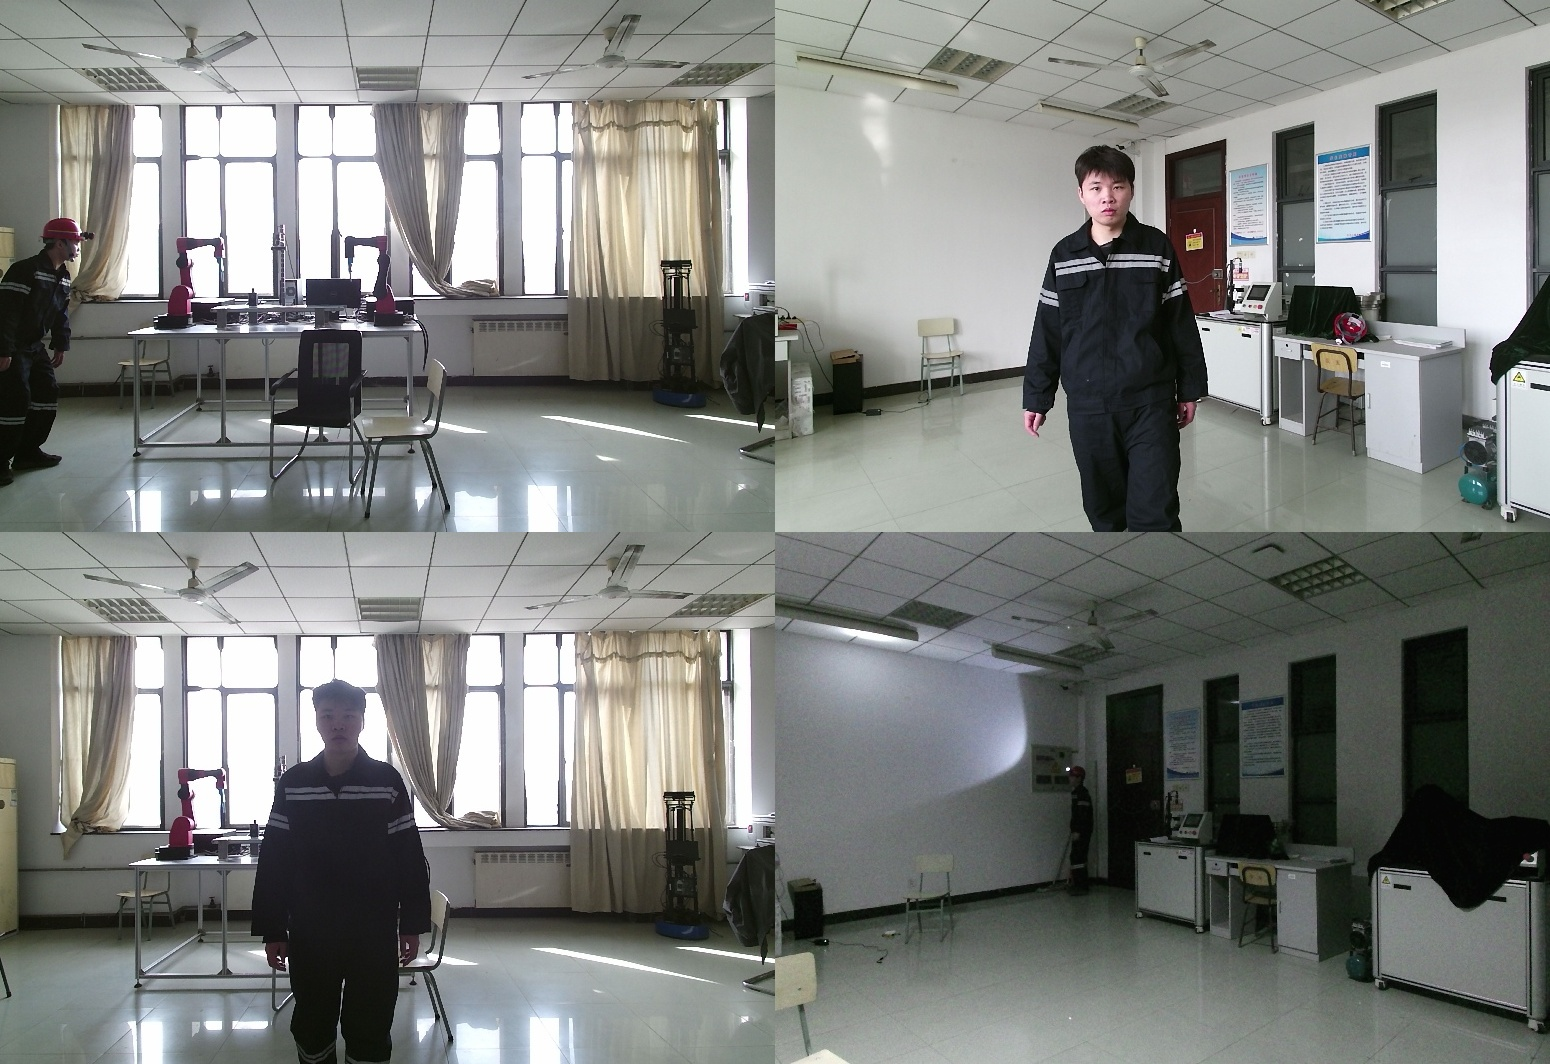person: (1023, 146, 1223, 532), (255, 681, 442, 1064), (1, 220, 99, 486), (1061, 765, 1094, 899)
